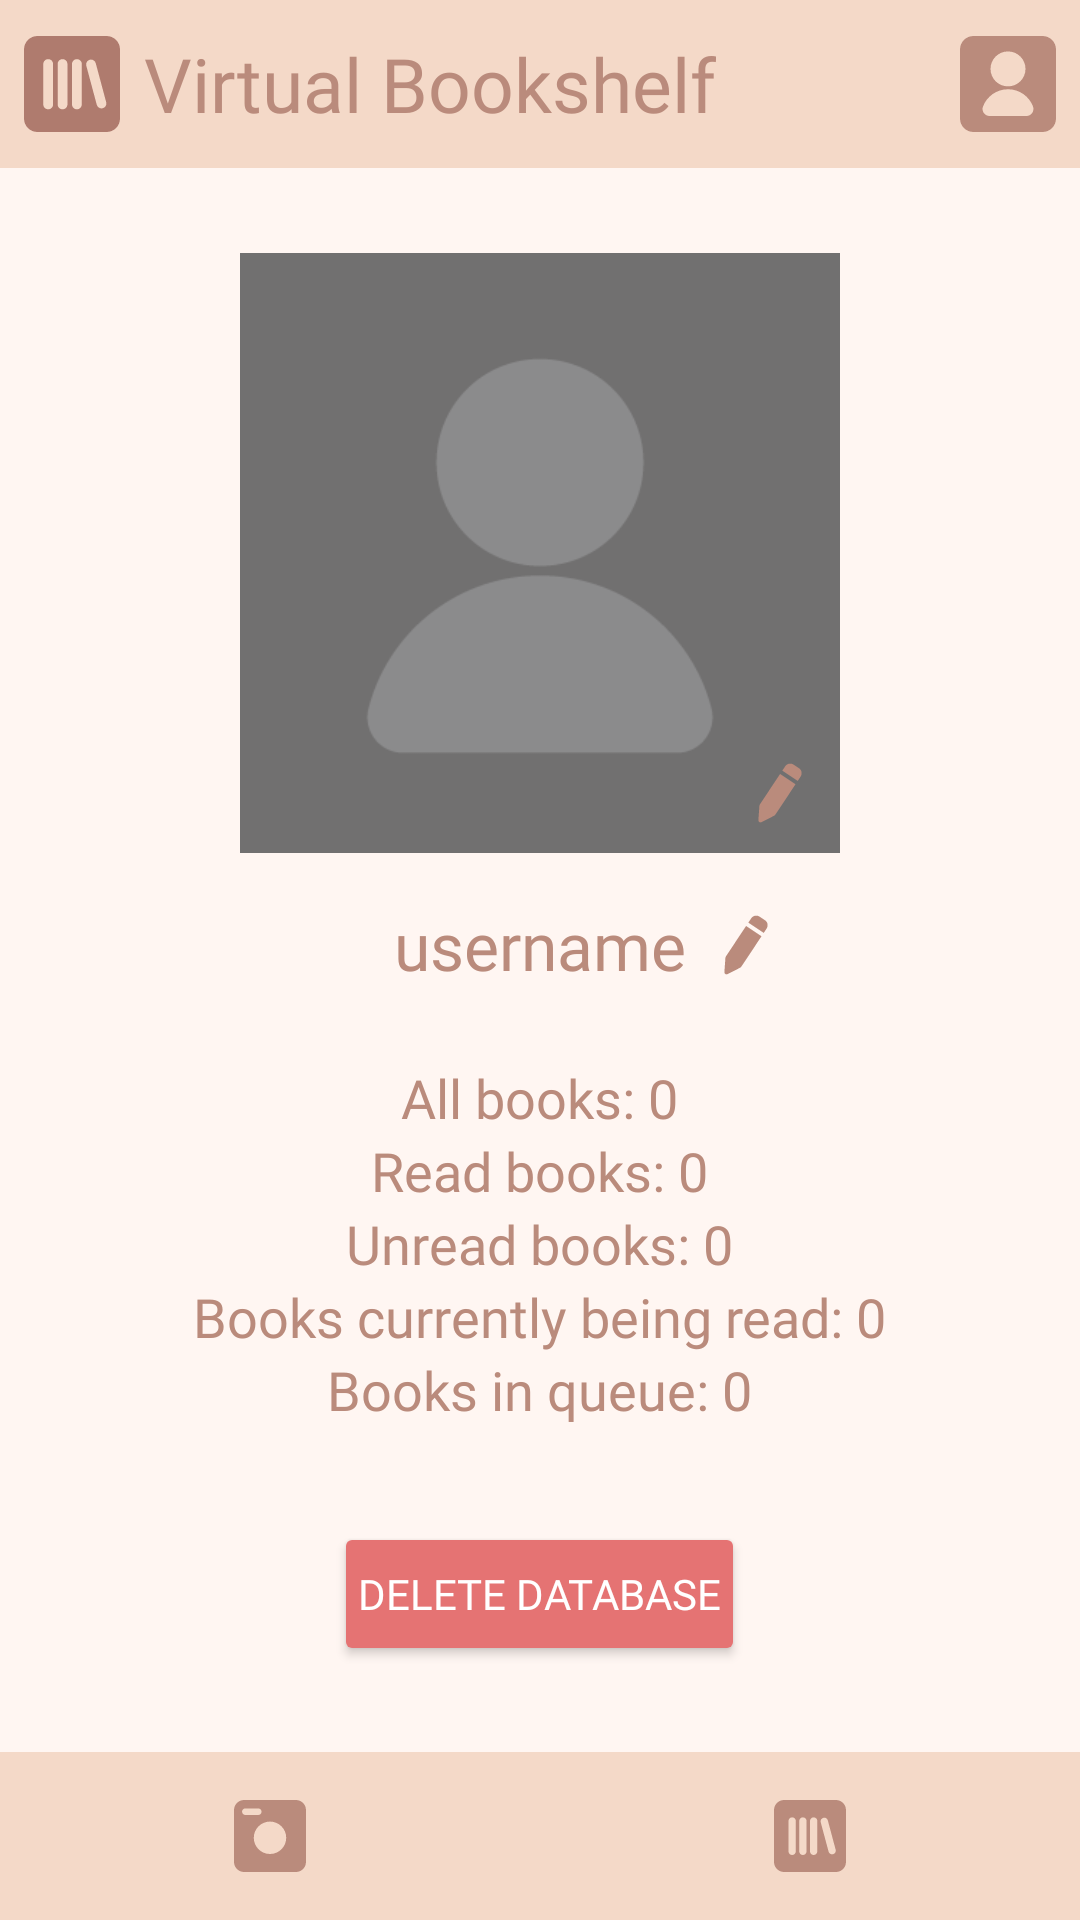

Where to tap for icons on this 1080*1920 app screen, as [x,y]:
User Icon: [1008,84]
